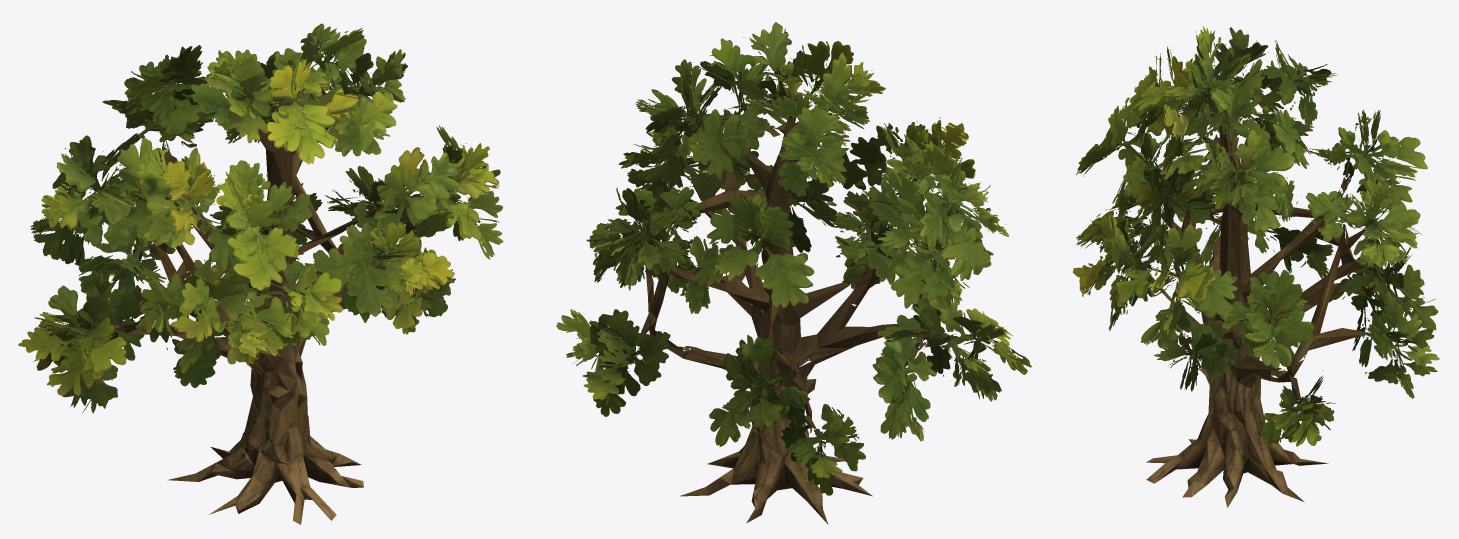
Rendered from agac_lod1.glb.
3 views of the same model, side by side, from view 1: azimuth 30°, elevation 25°; view 2: azimuth 150°, elevation 25°; view 3: azimuth 270°, elevation 25° (orthographic). The views are drawn at different scales.
Parts seen in each view (by area): view 1: agac_lod1; view 2: agac_lod1; view 3: agac_lod1.
Part boxes in pixels (x1,y1,x2,y2): agac_lod1: (18, 23, 503, 524); agac_lod1: (556, 22, 1031, 524); agac_lod1: (1073, 26, 1439, 507).
Bounding box in the file's own units: 5.09 × 5.1 × 3.97.
2 materials, 2 textured.
